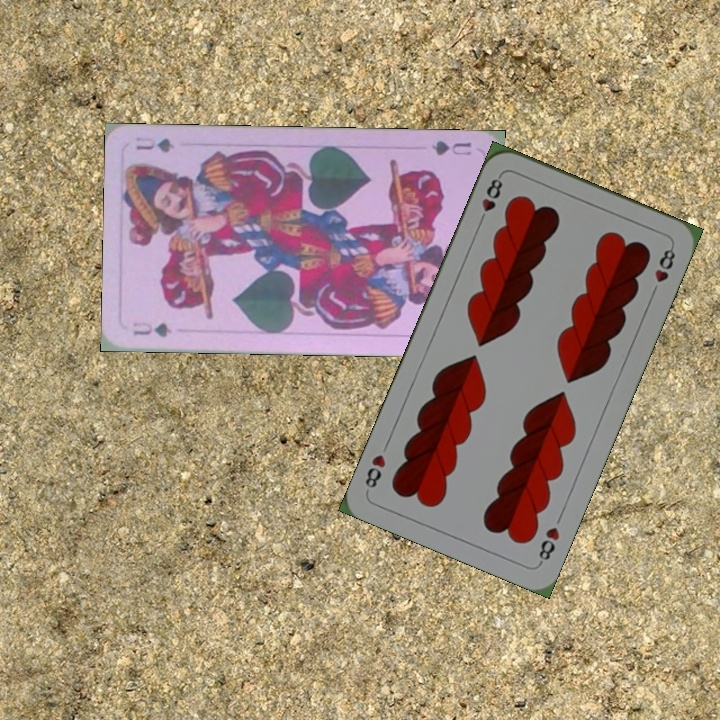GU: (129, 317, 174, 340), (427, 136, 474, 158)
H8: (475, 171, 505, 227), (534, 523, 563, 567)
